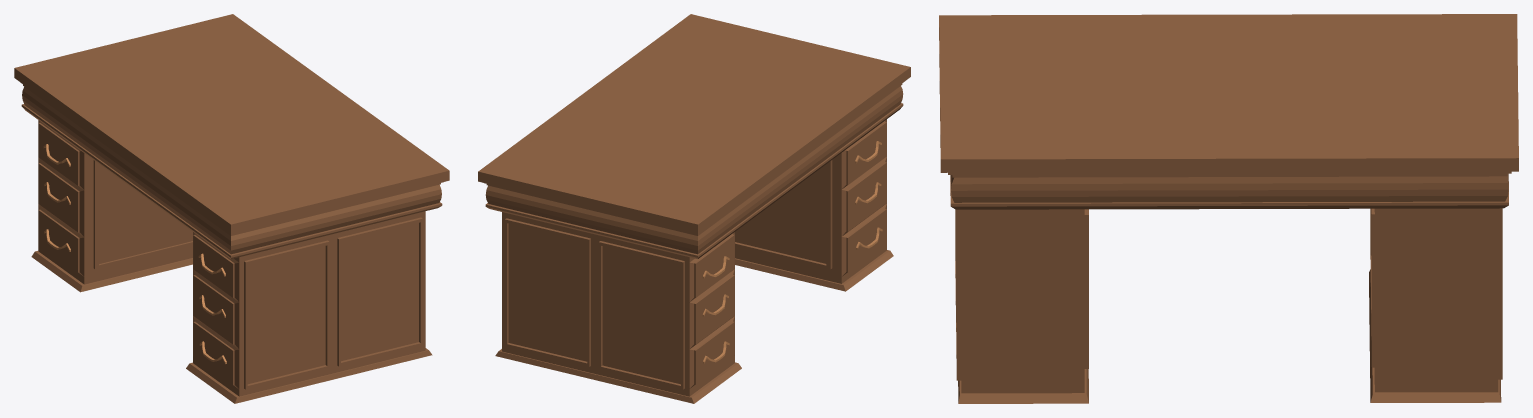
Rendered from off-table7.glb.
3 views of the same model, side by side, from view 1: azimuth 30°, elevation 25°; view 2: azimuth 150°, elevation 25°; view 3: azimuth 270°, elevation 25° (orthographic). The views are drawn at different scales.
Visible parts, largest first — view 1: Cube_Material.002_0; view 2: Cube_Material.002_0; view 3: Cube_Material.002_0.
Part boxes in pixels (x1=…): Cube_Material.002_0: x1=14, y1=14, x2=449, y2=403; Cube_Material.002_0: x1=478, y1=14, x2=910, y2=403; Cube_Material.002_0: x1=939, y1=14, x2=1518, y2=403.
Bounding box in the file's own units: 1.06 × 0.857 × 1.79.
